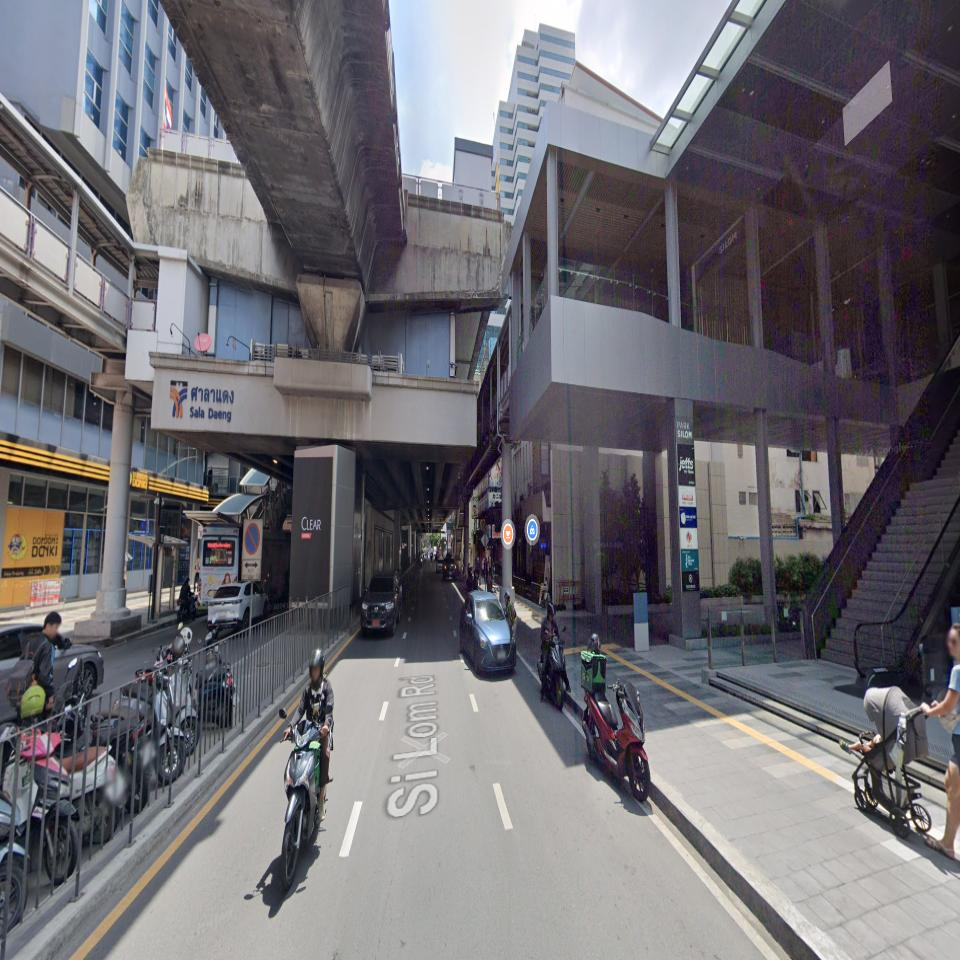signage: (169, 379, 235, 424), (189, 384, 234, 424)
